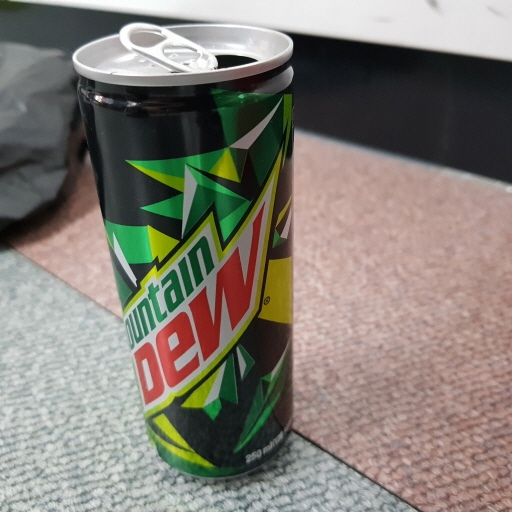Metal_0: (72, 18, 299, 479)
